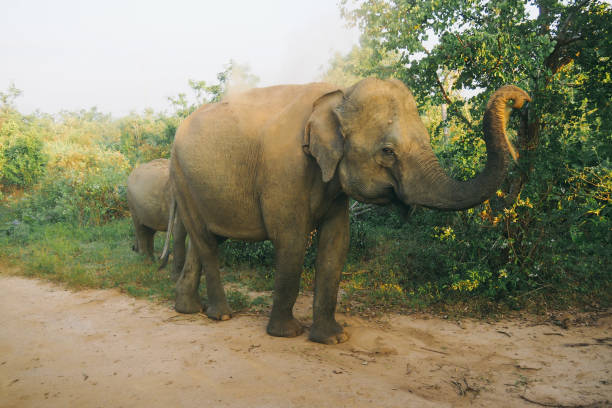africanelephant: (298, 64, 541, 232)
